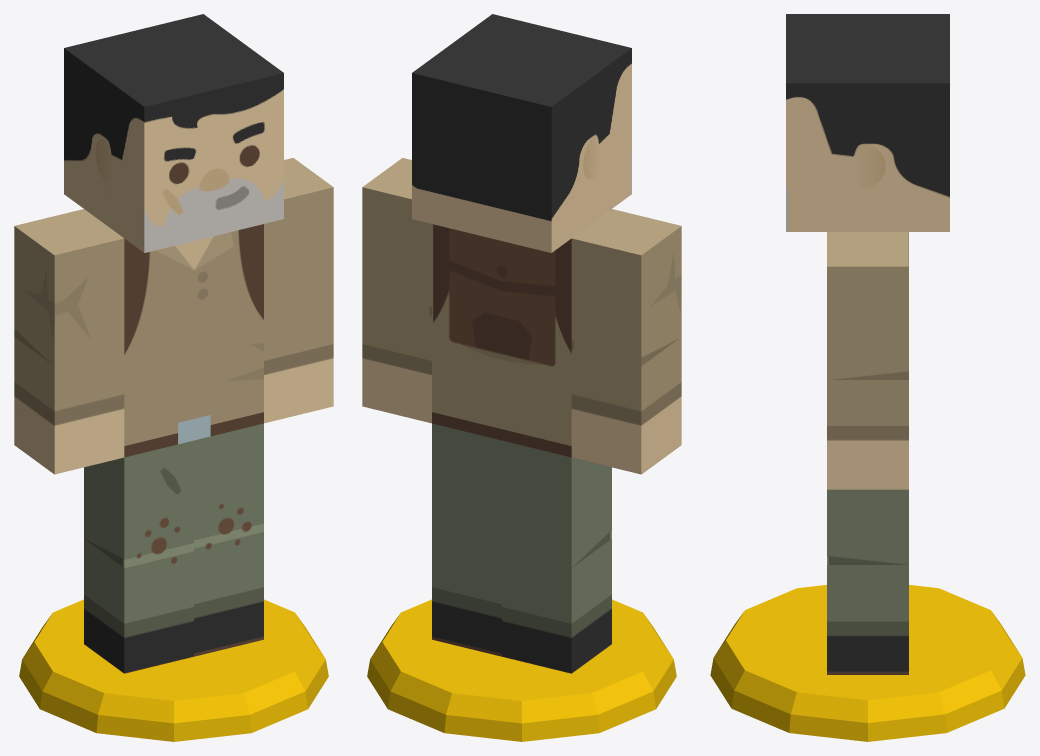
File: blockhead1.glb
3 renders of one model, left to right at view 1: azimuth 30°, elevation 25°; view 2: azimuth 150°, elevation 25°; view 3: azimuth 270°, elevation 25°, orthographic.
Visible parts, largest first — view 1: Head, Body, ArmRight, Cylinder__0, LegRight, ArmLeft, LegLeft; view 2: Head, Body, ArmRight, Cylinder__0, LegRight, ArmLeft, LegLeft; view 3: Head, Cylinder__0, ArmLeft, LegLeft.
Boxes of the visible parts, left/top/right/bottom form: Head: left=64, top=14, right=283, bottom=252; Body: left=124, top=224, right=263, bottom=457; ArmRight: left=14, top=209, right=124, bottom=474; Cylinder__0: left=19, top=599, right=328, bottom=741; LegRight: left=84, top=440, right=193, bottom=673; ArmLeft: left=264, top=158, right=333, bottom=423; LegLeft: left=194, top=423, right=263, bottom=656; Head: left=412, top=14, right=631, bottom=252; Body: left=432, top=224, right=571, bottom=457; ArmRight: left=571, top=209, right=681, bottom=474; Cylinder__0: left=367, top=599, right=676, bottom=741; LegRight: left=502, top=440, right=611, bottom=673; ArmLeft: left=362, top=158, right=431, bottom=423; LegLeft: left=432, top=423, right=501, bottom=656; Head: left=786, top=14, right=949, bottom=231; Cylinder__0: left=710, top=585, right=1025, bottom=741; ArmLeft: left=827, top=232, right=908, bottom=489; LegLeft: left=827, top=489, right=908, bottom=674.
Size of the model in its own units: 1.07 by 2.26 by 1.03.
2 materials, 1 textured.
